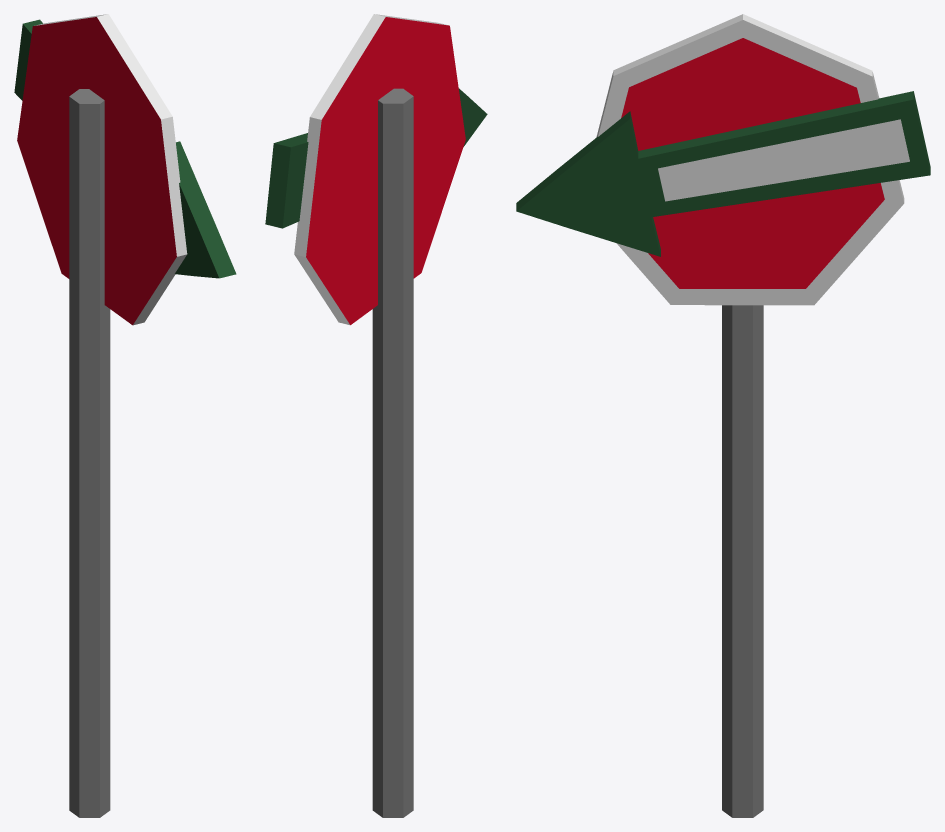
Rendered from SignsNofella.fbx.
3 renders of one model, left to right at view 1: azimuth 30°, elevation 25°; view 2: azimuth 150°, elevation 25°; view 3: azimuth 270°, elevation 25°, orthographic.
Parts seen in each view (by area): view 1: Stop, Pole, Arrow; view 2: Stop, Pole, Arrow; view 3: Stop, Arrow, Pole.
Boxes of the visible parts, x1,y1,x2,y2 form: Stop: (17, 14, 187, 325); Pole: (69, 89, 110, 817); Arrow: (14, 19, 236, 278); Stop: (294, 14, 465, 325); Pole: (372, 88, 413, 817); Arrow: (265, 88, 487, 228); Stop: (596, 14, 904, 305); Arrow: (516, 91, 930, 256); Pole: (722, 305, 763, 817).
Size of the model in its own units: 25.46 by 384 by 180.
